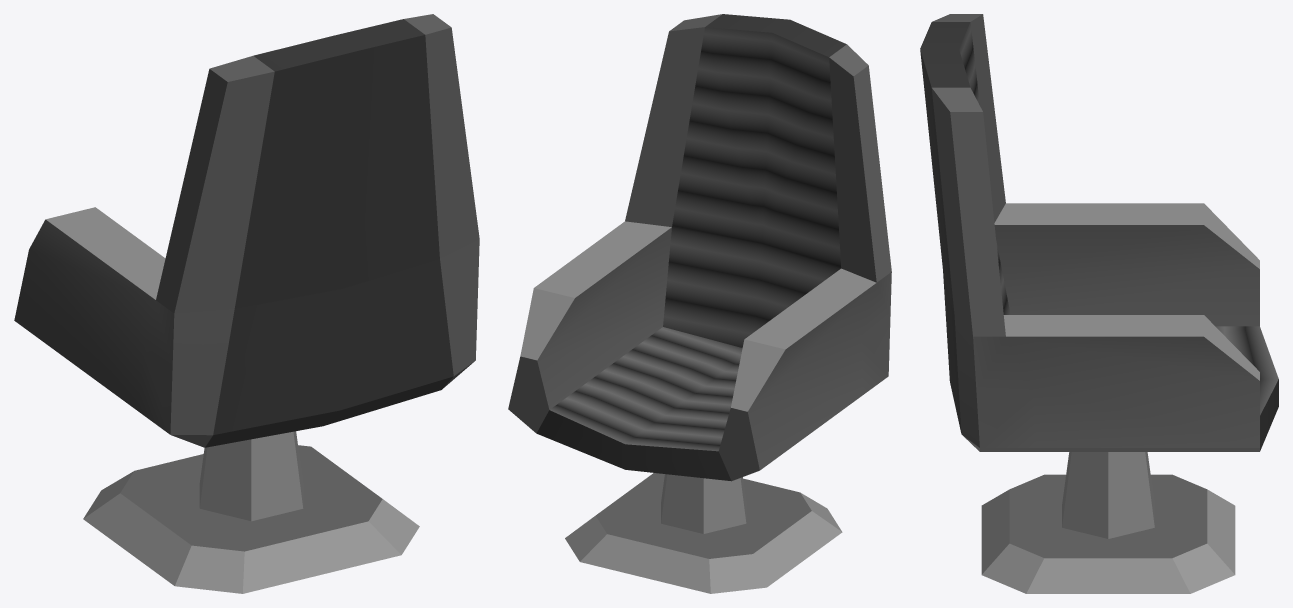
File: Desk_Chair_SciFi.fbx
The picture shows the model from 3 angles, left to right: view 1: azimuth 30°, elevation 25°; view 2: azimuth 150°, elevation 25°; view 3: azimuth 270°, elevation 25°; orthographic projection. The views are drawn at different scales.
Visible parts, largest first — view 1: Desk_Chair_SciFi; view 2: Desk_Chair_SciFi; view 3: Desk_Chair_SciFi.
Part boxes in pixels (left/top/right/bottom): Desk_Chair_SciFi: left=14, top=14, right=479, bottom=593; Desk_Chair_SciFi: left=508, top=14, right=891, bottom=593; Desk_Chair_SciFi: left=920, top=14, right=1278, bottom=593.
Bounding box in the file's own units: 77.24 × 133 × 87.67.
